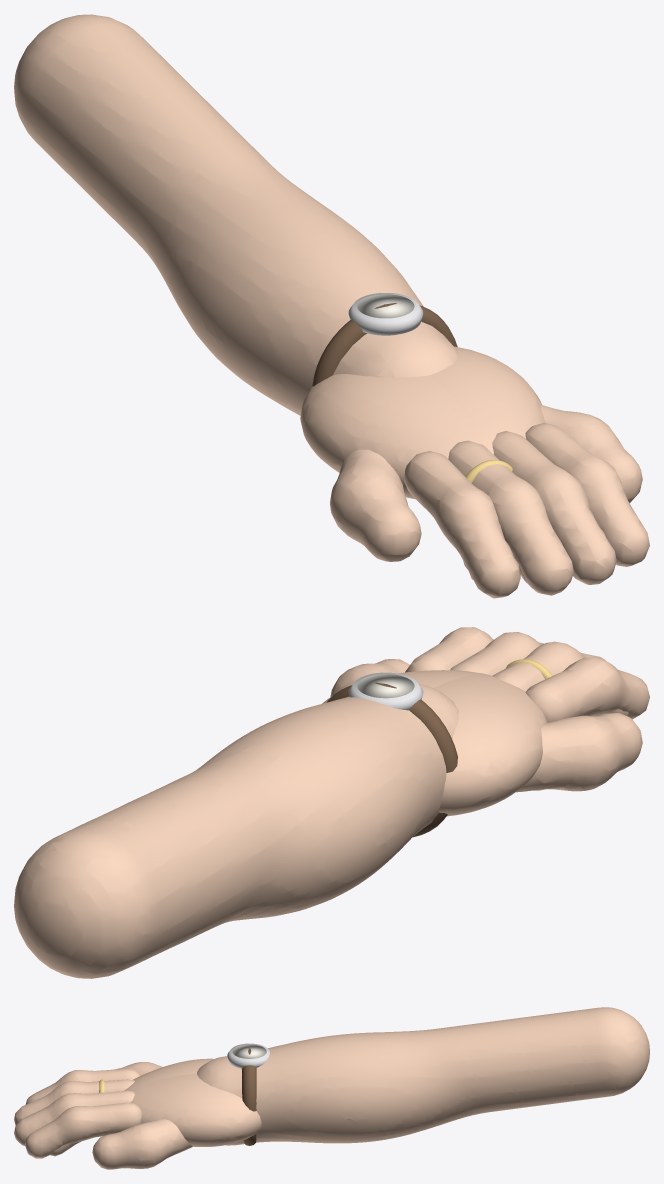
Rendered from hands.glb.
3 renders of one model, top to bottom at view 1: azimuth 30°, elevation 25°; view 2: azimuth 150°, elevation 25°; view 3: azimuth 270°, elevation 25°, orthographic. The views are drawn at different scales.
Parts seen in each view (by area): view 1: hand_l_forearm, hand_l_palm, hand_l_finger0, hand_l_finger1, hand_l_thumb, hand_r_finger1, hand_r_finger0, hand_r_palm, hand_r_thumb, hand_l_watch_strap, hand_l_watch, hand_l_watch_face; view 2: hand_l_forearm, hand_l_palm, hand_l_thumb, hand_l_finger0, hand_l_finger1, hand_r_finger0, hand_r_finger1, hand_l_watch_strap, hand_l_watch_face, hand_r_thumb, hand_l_watch, hand_r_palm; view 3: hand_l_forearm, hand_r_palm, hand_r_finger0, hand_r_thumb, hand_r_finger1, hand_l_finger1, hand_l_finger0, hand_l_palm, hand_l_watch_strap, hand_l_watch, hand_l_watch_face, hand_l_thumb.
Boxes of the visible parts, left/top/right/bottom form: hand_l_forearm: left=14, top=14, right=458, bottom=415; hand_l_palm: left=300, top=374, right=493, bottom=499; hand_l_finger0: left=404, top=451, right=520, bottom=598; hand_l_finger1: left=448, top=440, right=573, bottom=595; hand_l_thumb: left=330, top=449, right=421, bottom=561; hand_r_finger1: left=492, top=431, right=616, bottom=584; hand_r_finger0: left=525, top=423, right=649, bottom=566; hand_r_palm: left=430, top=346, right=545, bottom=442; hand_r_thumb: left=541, top=405, right=642, bottom=503; hand_l_watch_strap: left=312, top=303, right=457, bottom=386; hand_l_watch: left=348, top=293, right=423, bottom=335; hand_l_watch_face: left=357, top=294, right=414, bottom=318; hand_l_forearm: left=14, top=683, right=458, bottom=978; hand_l_palm: left=433, top=673, right=547, bottom=816; hand_l_thumb: left=516, top=713, right=642, bottom=792; hand_l_finger0: left=525, top=657, right=649, bottom=722; hand_l_finger1: left=492, top=641, right=605, bottom=691; hand_r_finger0: left=405, top=627, right=493, bottom=672; hand_r_finger1: left=450, top=632, right=543, bottom=675; hand_l_watch_strap: left=327, top=682, right=457, bottom=837; hand_l_watch_face: left=357, top=674, right=414, bottom=698; hand_r_thumb: left=330, top=659, right=409, bottom=696; hand_l_watch: left=348, top=672, right=423, bottom=710; hand_r_palm: left=322, top=670, right=482, bottom=703; hand_l_forearm: left=197, top=1007, right=649, bottom=1145; hand_r_palm: left=128, top=1073, right=261, bottom=1146; hand_r_finger0: left=25, top=1102, right=141, bottom=1158; hand_r_thumb: left=92, top=1119, right=192, bottom=1169; hand_r_finger1: left=14, top=1090, right=134, bottom=1145; hand_l_finger1: left=14, top=1079, right=134, bottom=1124; hand_l_finger0: left=25, top=1069, right=140, bottom=1104; hand_l_palm: left=124, top=1058, right=213, bottom=1090; hand_l_watch_strap: left=242, top=1048, right=256, bottom=1145; hand_l_watch: left=227, top=1043, right=269, bottom=1068; hand_l_watch_face: left=232, top=1044, right=266, bottom=1058; hand_l_thumb: left=111, top=1062, right=162, bottom=1075.
Bounding box in the file's own units: 0.1461 × 0.1089 × 0.4828.
